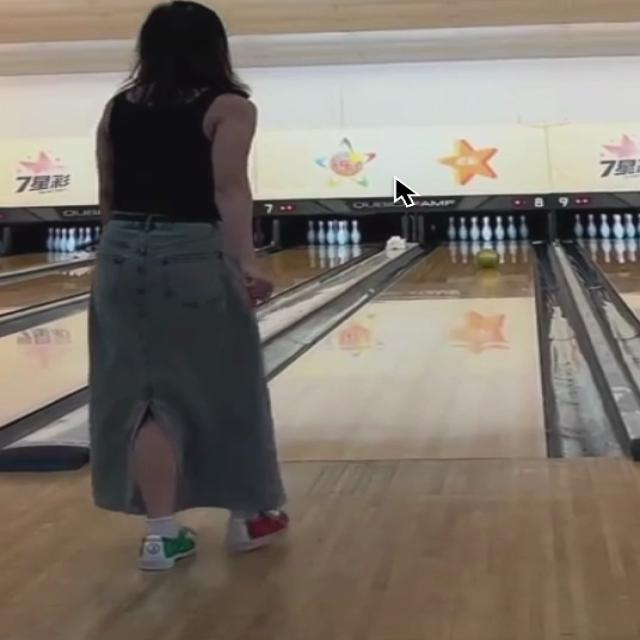alley: (271, 242, 543, 459)
balls: (474, 248, 499, 267)
bottle: (448, 215, 527, 246)
